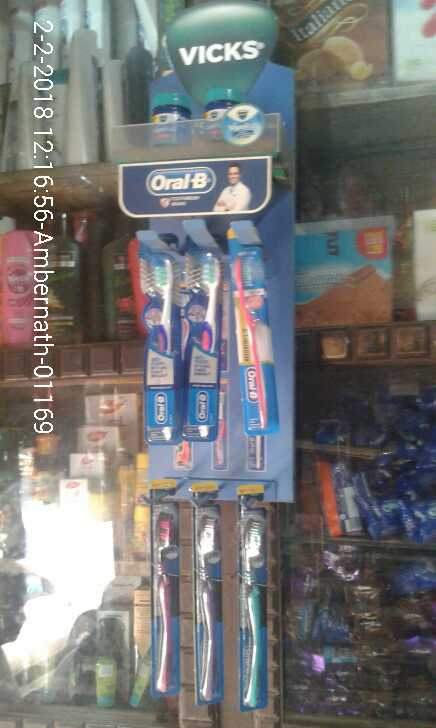oralb: (226, 258, 283, 437), (177, 254, 232, 432), (229, 513, 276, 709), (183, 518, 225, 703), (142, 261, 184, 436), (142, 499, 179, 691)
